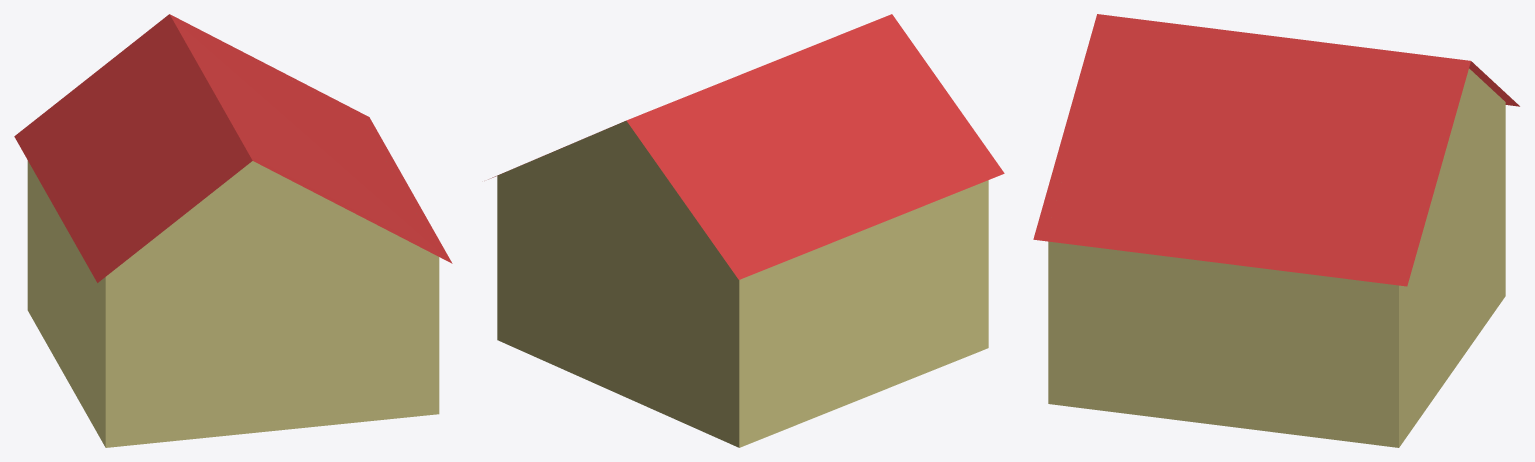
The picture shows the model from 3 angles, left to right: view 1: azimuth 30°, elevation 25°; view 2: azimuth 150°, elevation 25°; view 3: azimuth 270°, elevation 25°; orthographic projection. The views are drawn at different scales.
Size of the model in its own units: 20.38 by 20.13 by 13.79.
